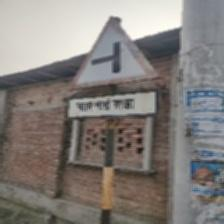Side-road-left: (65, 14, 158, 120)
